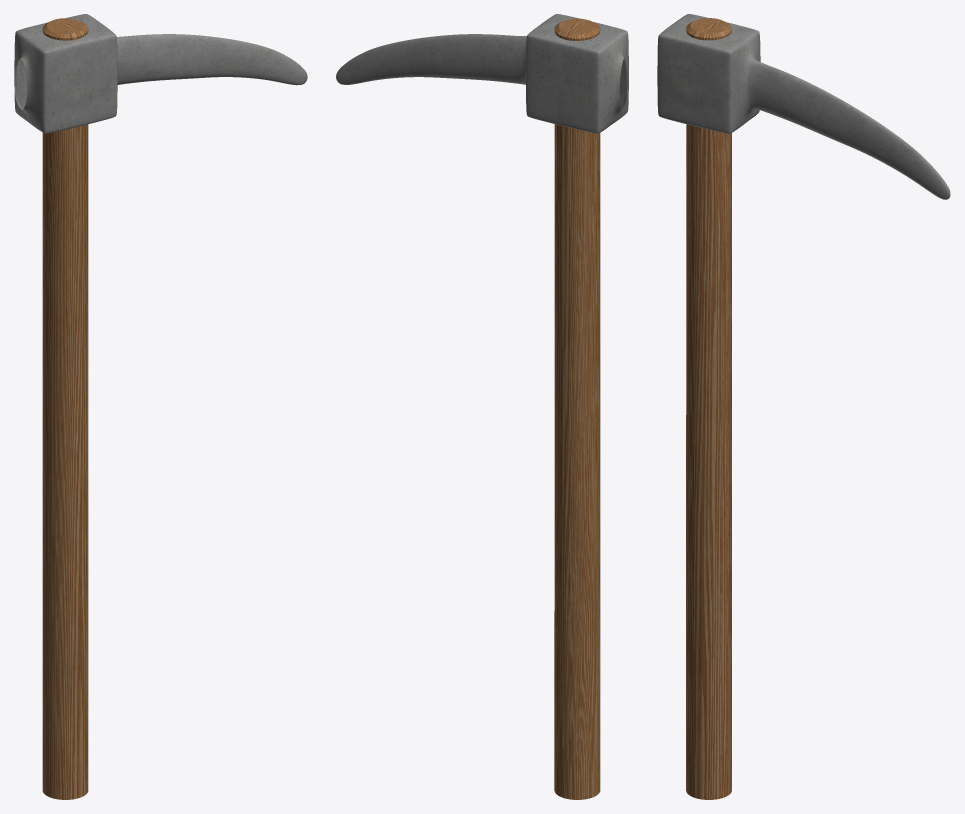
The model's file is Pickaxe.glb.
The picture shows the model from 3 angles, left to right: view 1: azimuth 30°, elevation 25°; view 2: azimuth 150°, elevation 25°; view 3: azimuth 330°, elevation 25°; orthographic projection.
Parts seen in each view (by area): view 1: Pickaxe Handle, Pickaxe Head Base, Pickaxe Head; view 2: Pickaxe Handle, Pickaxe Head Base, Pickaxe Head; view 3: Pickaxe Handle, Pickaxe Head Base, Pickaxe Head.
Boxes of the visible parts, x1,y1,x2,y2 form: Pickaxe Handle: (42,18,88,799); Pickaxe Head Base: (14,14,117,133); Pickaxe Head: (116,34,307,85); Pickaxe Handle: (554,18,600,799); Pickaxe Head Base: (525,14,628,133); Pickaxe Head: (336,34,526,84); Pickaxe Handle: (686,18,731,799); Pickaxe Head Base: (657,14,760,133); Pickaxe Head: (747,59,950,199).
Size of the model in its own units: 0.3204 by 0.8117 by 0.0617.
Materials: 2 (2 with a texture image).
